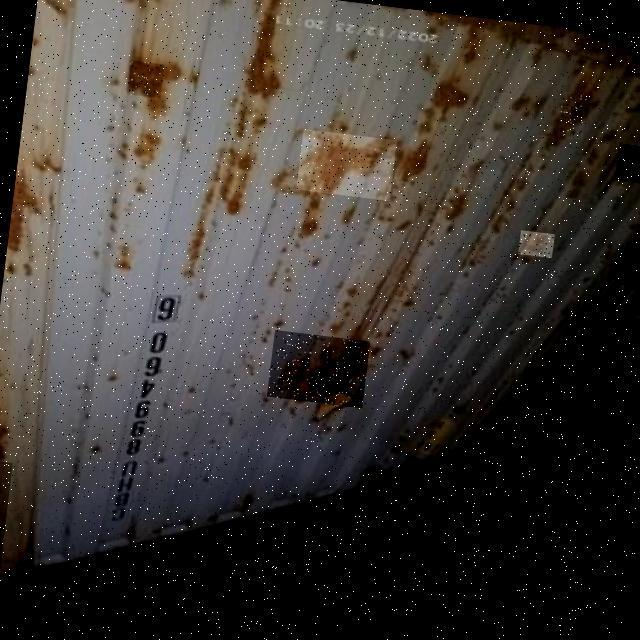Rust: (266, 330, 370, 408), (295, 129, 396, 201), (0, 458, 23, 577), (558, 91, 588, 140), (126, 60, 164, 98), (614, 143, 640, 185), (518, 230, 555, 258)
